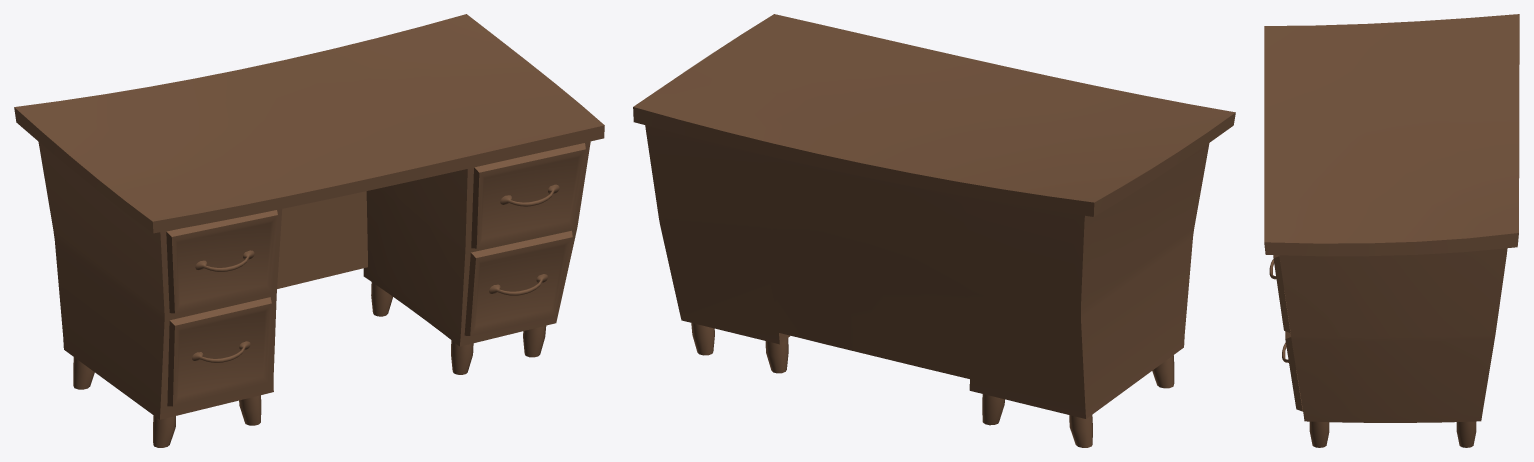
File: SM_Desk_01.FBX
3 views of the same model, side by side, from view 1: azimuth 30°, elevation 25°; view 2: azimuth 150°, elevation 25°; view 3: azimuth 270°, elevation 25° (orthographic). The views are drawn at different scales.
Visible parts, largest first — view 1: SM_Desk; view 2: SM_Desk; view 3: SM_Desk.
Part boxes in pixels (<box>): SM_Desk: <box>14,14,604,447</box>; SM_Desk: <box>633,14,1235,447</box>; SM_Desk: <box>1264,14,1519,447</box>.
Bounding box in the file's own units: 155 × 86.96 × 81.68.
